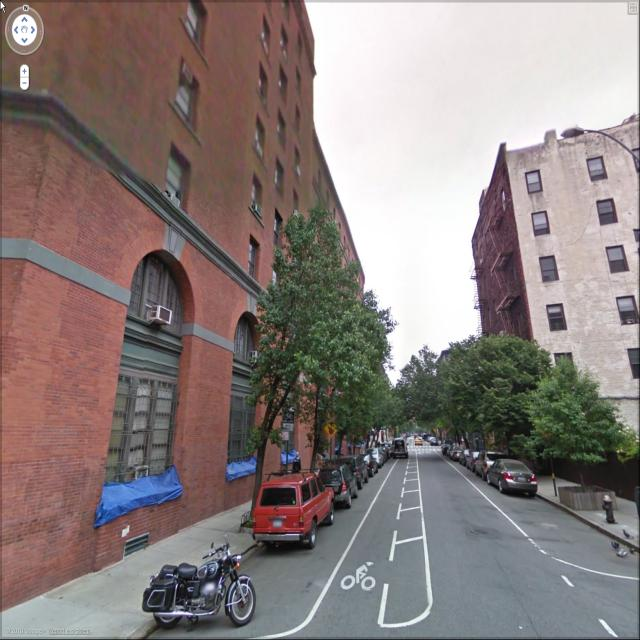b_1: (475, 123, 636, 396)
b_2: (6, 1, 315, 597), (310, 138, 364, 458)
